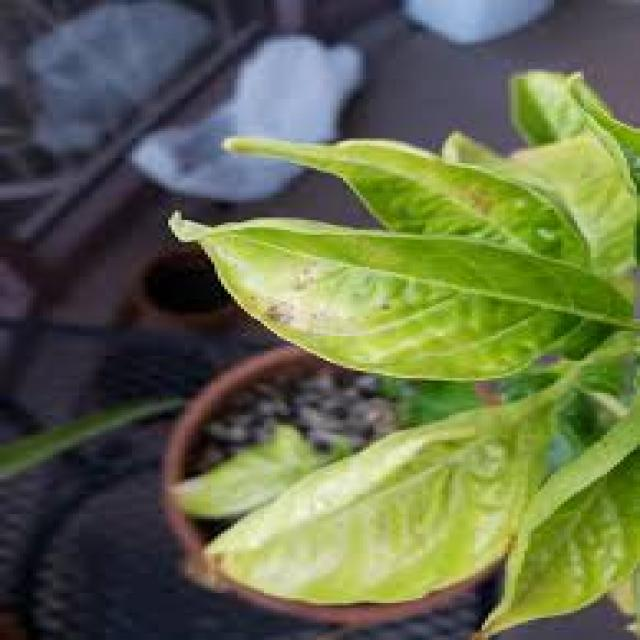virus_kuning: (182, 387, 561, 605), (184, 216, 636, 380)
